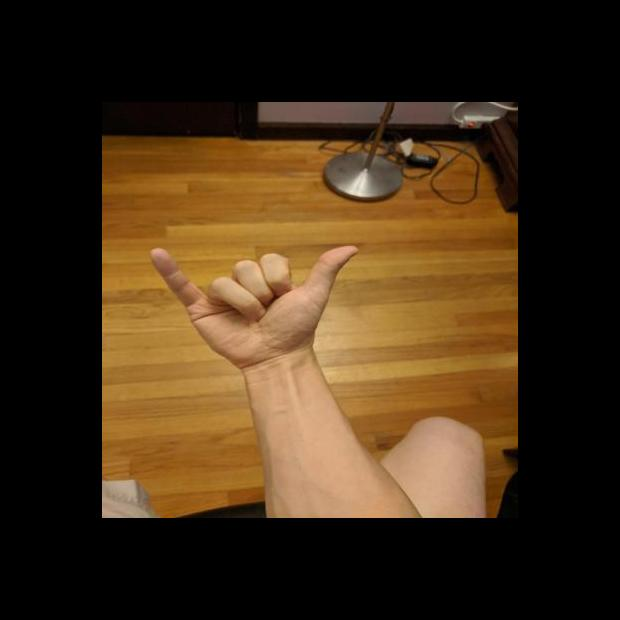X: (145, 244, 363, 372)
